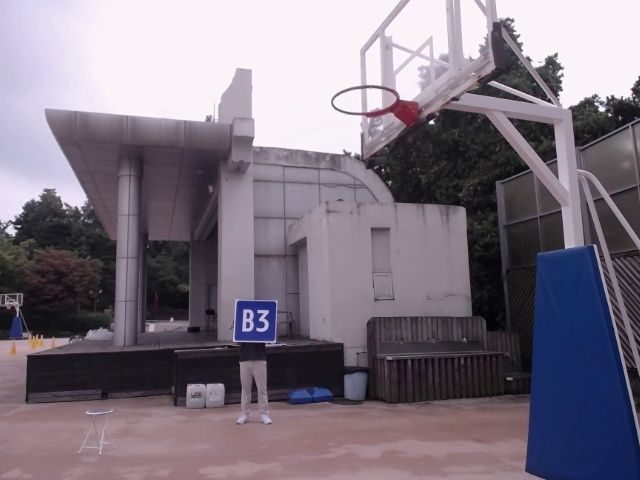delivery_b3: (234, 297, 278, 343)
